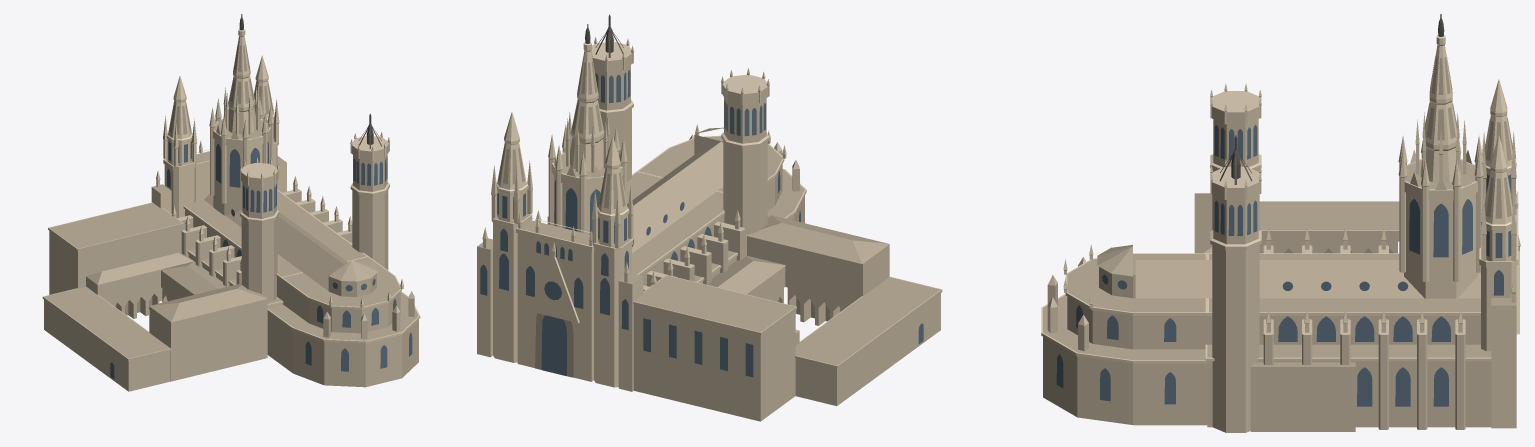
Rendered from barcelona-cathedral.glb.
3 views of the same model, side by side, from view 1: azimuth 30°, elevation 25°; view 2: azimuth 150°, elevation 25°; view 3: azimuth 270°, elevation 25° (orthographic). The views are drawn at different scales.
Parts seen in each view (by area): view 1: Barcelona Cathedral; view 2: Barcelona Cathedral; view 3: Barcelona Cathedral.
Boxes of the visible parts, bbox=[...] form: Barcelona Cathedral: bbox=[42, 14, 420, 391]; Barcelona Cathedral: bbox=[477, 14, 942, 421]; Barcelona Cathedral: bbox=[1041, 14, 1520, 432].
Bounding box in the file's own units: 86.19 × 80 × 94.22.
